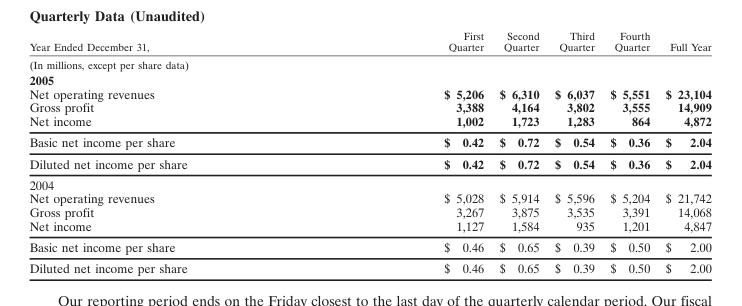table: (28, 29, 710, 275)
table column: (28, 29, 315, 275), (315, 29, 490, 275), (490, 29, 546, 275), (601, 29, 657, 275), (546, 29, 601, 275), (657, 29, 710, 275)
table column header: (28, 29, 710, 55)
table projected row header: (28, 173, 710, 191), (28, 55, 710, 71), (28, 71, 710, 86)
table row: (28, 29, 710, 55), (28, 235, 710, 257), (28, 131, 710, 152), (28, 152, 710, 173), (28, 113, 710, 131), (28, 173, 710, 191), (28, 257, 710, 275), (28, 218, 710, 235), (28, 55, 710, 71), (28, 71, 710, 86), (28, 86, 710, 100), (28, 204, 710, 218), (28, 100, 710, 113), (28, 191, 710, 204)
